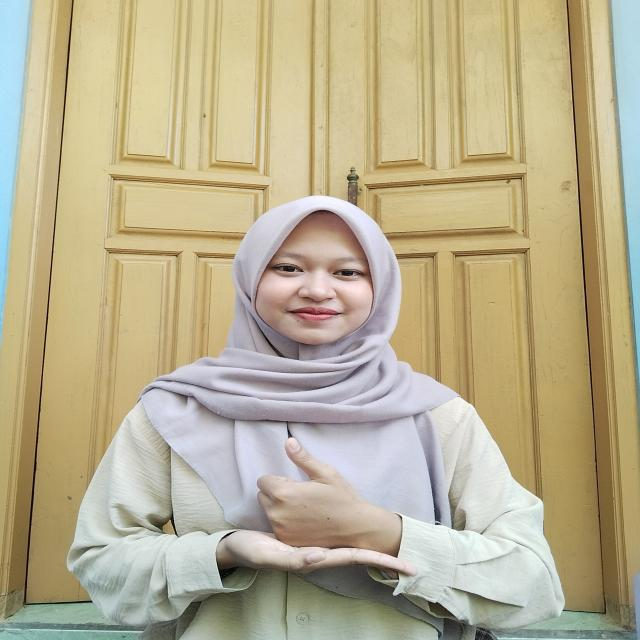cantik: (194, 425, 422, 595)
